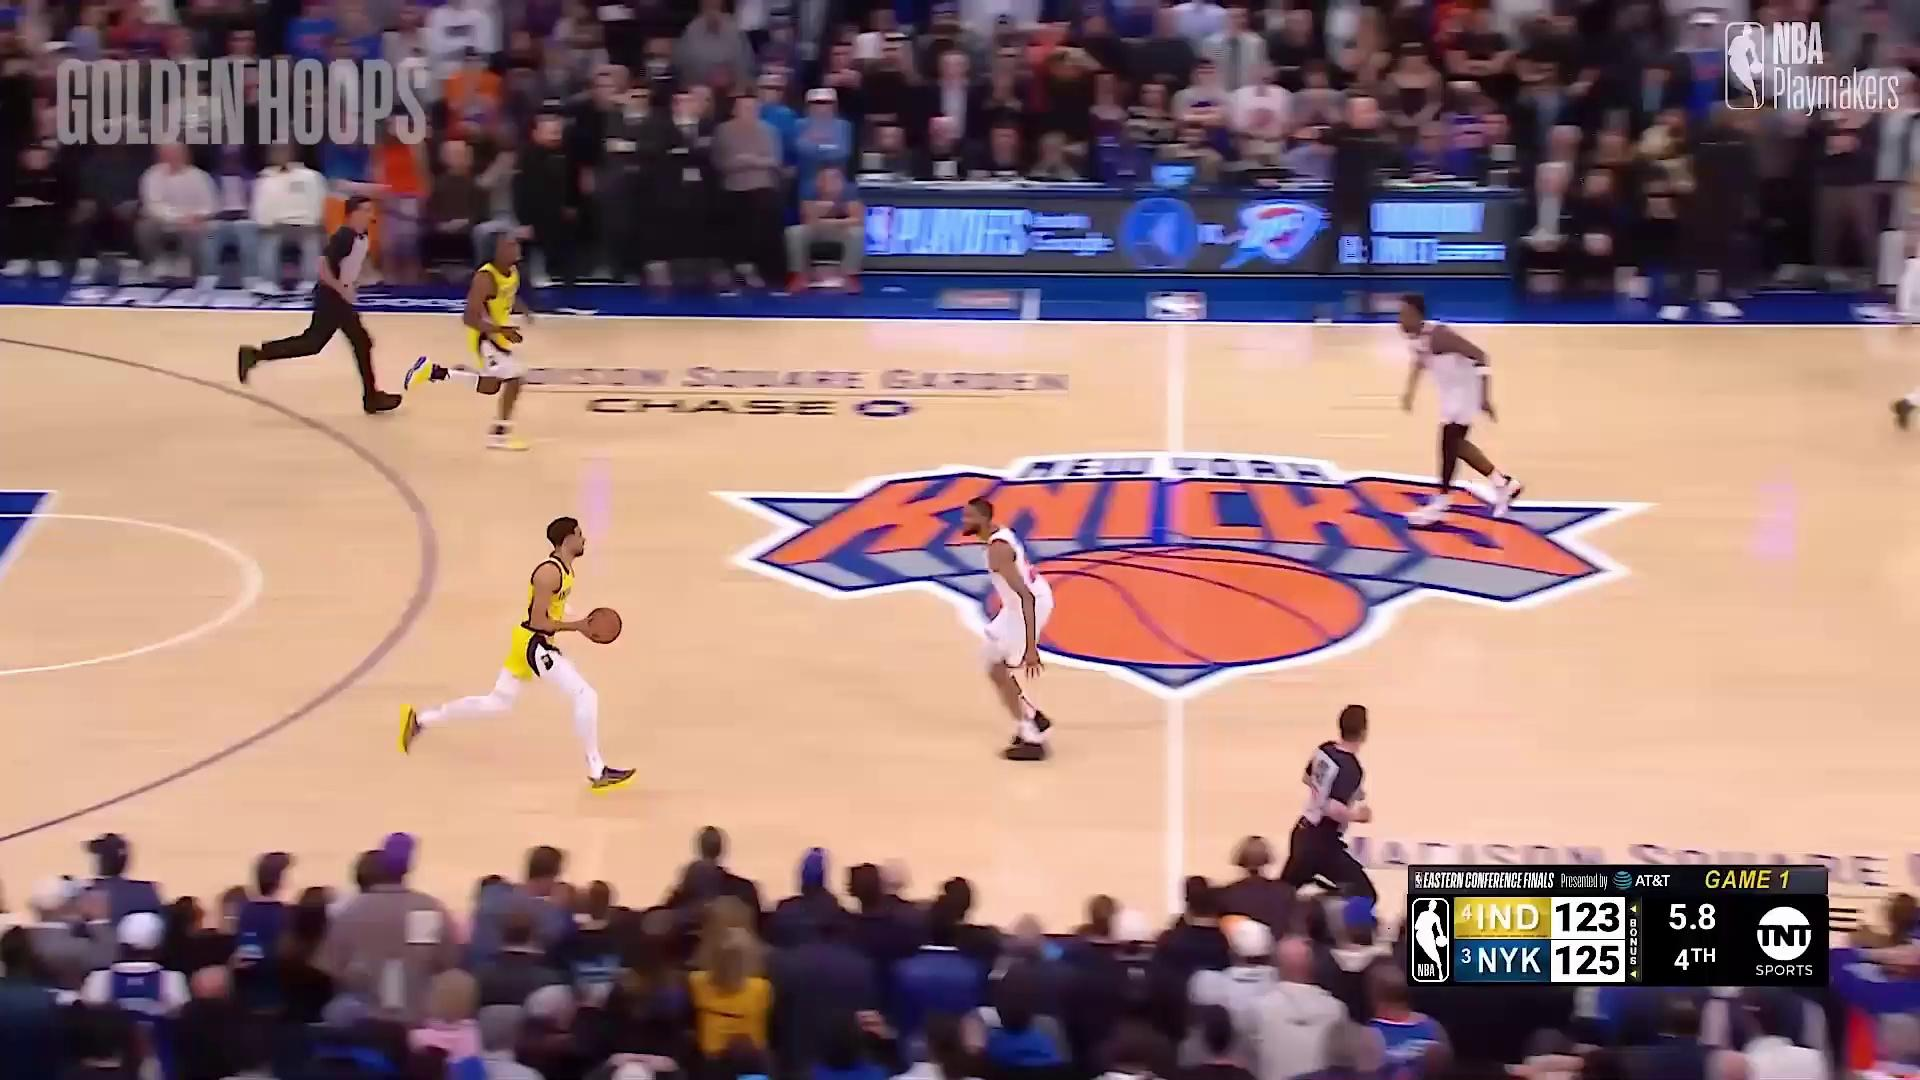ball: (585, 607, 628, 645)
